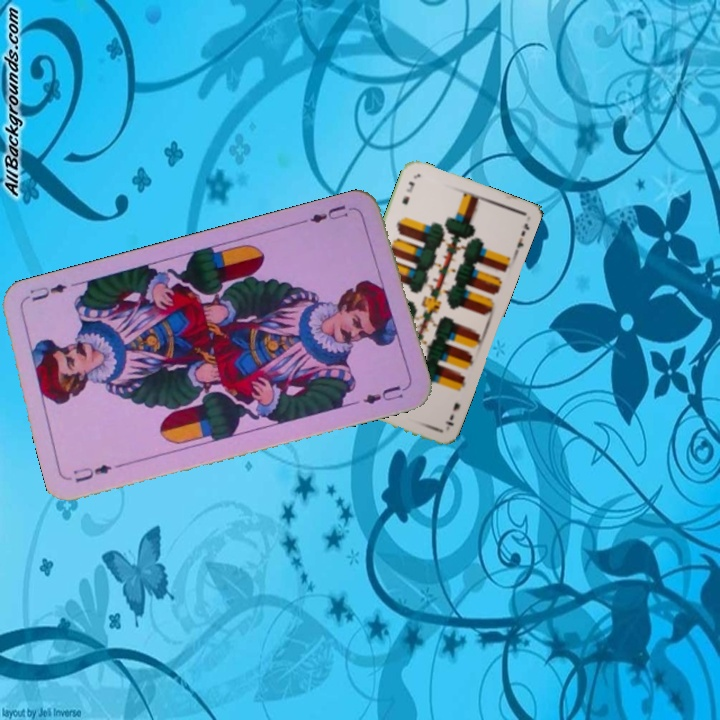E7: (441, 399, 463, 428), (398, 177, 417, 207)
EU: (305, 201, 358, 226), (69, 460, 114, 485)
